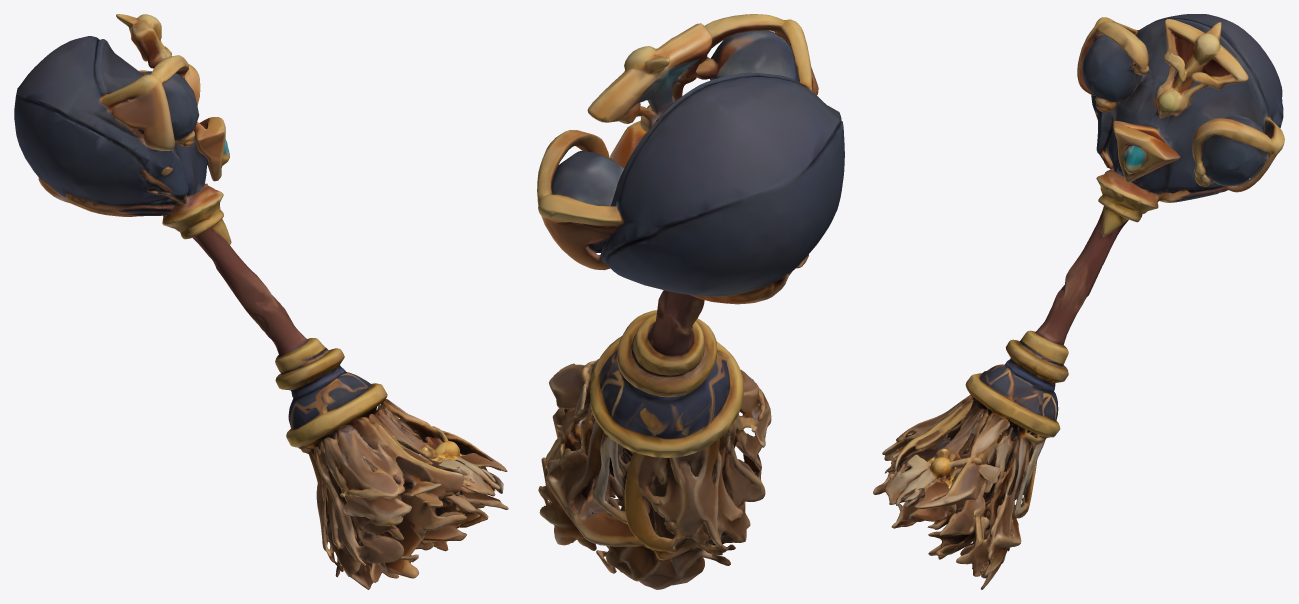
Rendered from prop-broom-flying.glb.
3 renders of one model, left to right at view 1: azimuth 30°, elevation 25°; view 2: azimuth 150°, elevation 25°; view 3: azimuth 270°, elevation 25°, orthographic. The views are drawn at different scales.
Parts seen in each view (by area): view 1: tripo_node_90fe7ba1-9420-47ba-9bc9-18b3901728fc; view 2: tripo_node_90fe7ba1-9420-47ba-9bc9-18b3901728fc; view 3: tripo_node_90fe7ba1-9420-47ba-9bc9-18b3901728fc.
Boxes of the visible parts, x1,y1,x2,y2 form: tripo_node_90fe7ba1-9420-47ba-9bc9-18b3901728fc: (14,14,508,589); tripo_node_90fe7ba1-9420-47ba-9bc9-18b3901728fc: (537,14,844,589); tripo_node_90fe7ba1-9420-47ba-9bc9-18b3901728fc: (873,14,1284,589).
Bounding box in the file's own units: 1.02 × 1.5 × 1.14.
1 material, 1 textured.
